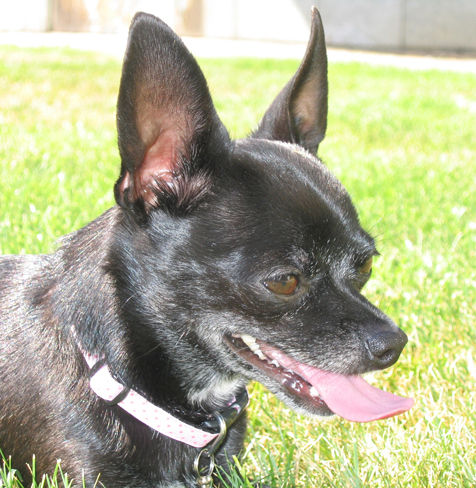dog: (1, 6, 417, 488)
